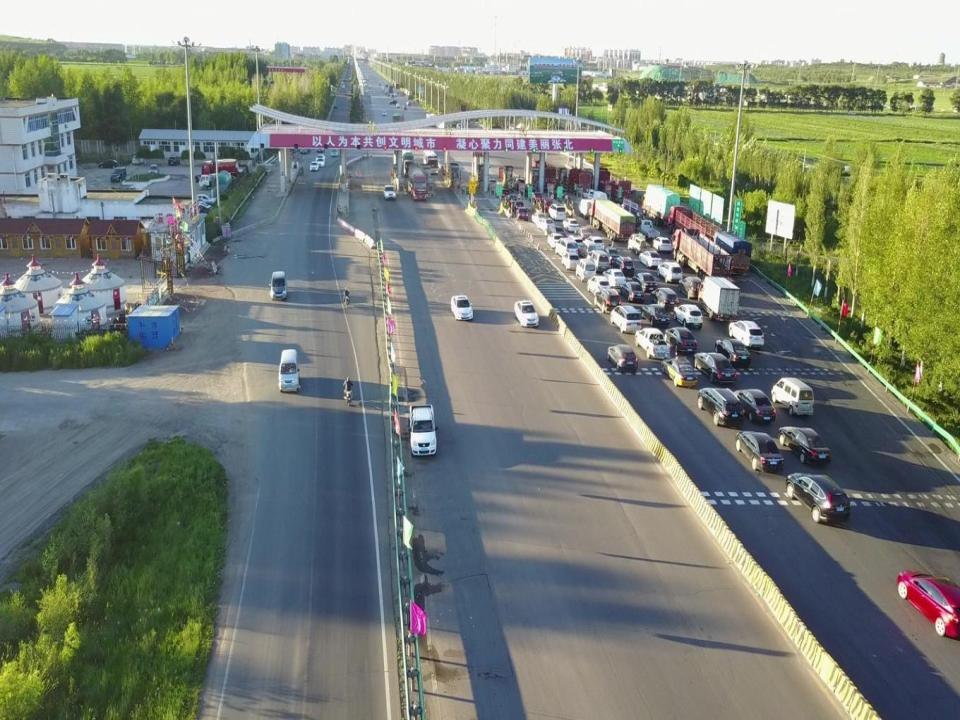bus: (422, 149, 440, 175)
car: (895, 568, 960, 642), (784, 470, 852, 522), (778, 424, 831, 467), (735, 430, 784, 474), (696, 386, 744, 428), (692, 350, 738, 387), (732, 388, 775, 424), (661, 355, 698, 388), (714, 338, 752, 368), (728, 319, 764, 349), (664, 326, 698, 356), (606, 344, 638, 372), (673, 303, 703, 329), (640, 304, 671, 328), (650, 287, 680, 311), (514, 300, 539, 328), (594, 288, 622, 313), (450, 294, 474, 322), (656, 261, 684, 284), (678, 276, 704, 299), (601, 267, 627, 289), (632, 272, 657, 294), (587, 275, 612, 296), (612, 255, 635, 277), (620, 282, 645, 302), (639, 250, 662, 268), (543, 224, 567, 241), (652, 235, 672, 253), (603, 246, 620, 264), (547, 232, 564, 250), (586, 236, 605, 252), (190, 201, 212, 214), (574, 227, 591, 243), (195, 194, 217, 206), (98, 159, 122, 169), (562, 218, 579, 232), (383, 184, 397, 200), (531, 212, 547, 226), (537, 218, 554, 231), (516, 207, 529, 221), (513, 177, 526, 190), (147, 164, 160, 176), (132, 154, 146, 165), (581, 189, 595, 200), (531, 192, 543, 204), (168, 155, 180, 166), (499, 188, 510, 200), (507, 195, 519, 206), (513, 200, 524, 212), (316, 154, 326, 166), (300, 145, 312, 155), (316, 157, 326, 168), (316, 143, 325, 153), (310, 161, 318, 171), (330, 148, 338, 157)
truck: (668, 204, 752, 277), (671, 227, 733, 279), (588, 198, 637, 242), (698, 275, 741, 322), (641, 184, 680, 227), (408, 404, 438, 457), (593, 167, 632, 203), (634, 326, 670, 359), (200, 158, 240, 185), (531, 160, 557, 191), (408, 162, 428, 201), (566, 168, 592, 195), (199, 173, 229, 191), (627, 233, 651, 255), (638, 219, 661, 240), (402, 148, 414, 178)
van: (770, 376, 815, 417), (277, 349, 300, 393), (610, 305, 642, 334), (587, 249, 611, 273), (269, 270, 287, 301), (555, 237, 579, 259), (576, 258, 597, 282), (560, 250, 580, 271), (548, 202, 566, 222), (579, 240, 597, 259), (109, 166, 127, 184)
